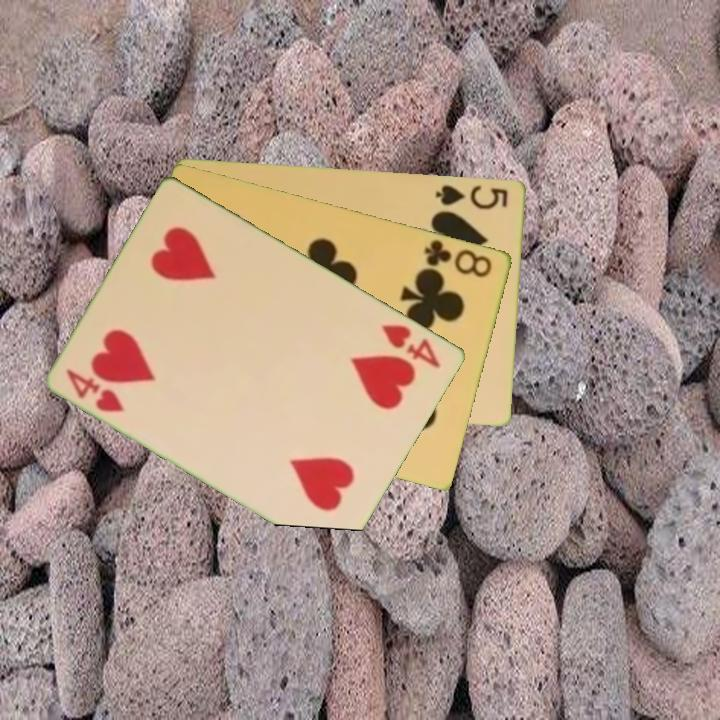4h: (378, 320, 444, 371), (63, 364, 128, 415)
5s: (432, 180, 511, 212)
8c: (421, 235, 495, 280)
